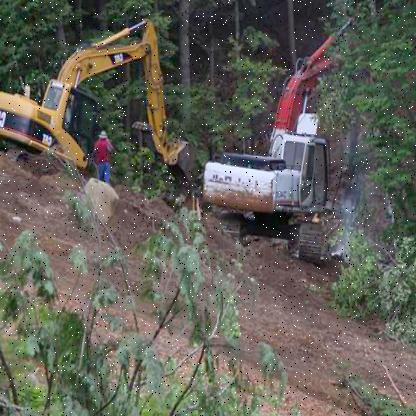excavator: (192, 1, 359, 264), (1, 1, 198, 192)
